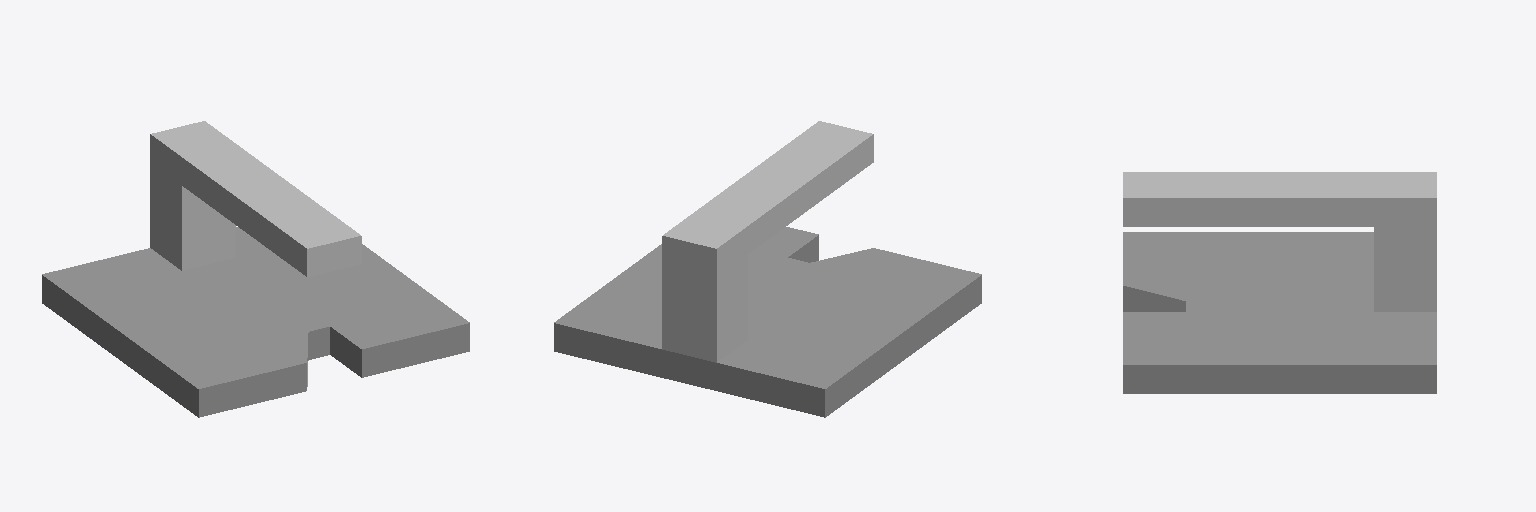
Rendered from hang4.obj.
The picture shows the model from 3 angles: view 1: azimuth 30°, elevation 25°; view 2: azimuth 150°, elevation 25°; view 3: azimuth 270°, elevation 25°; orthographic projection.
Parts seen in each view (by area): view 1: Cube, Cube.001_Cube.004, Cube.003; view 2: Cube, Cube.001_Cube.004, Cube.003; view 3: Cube, Cube.001_Cube.004, Cube.003.
Part boxes in pixels (left/top/right/bottom): Cube: left=42, top=227, right=469, bottom=417; Cube.001_Cube.004: left=150, top=121, right=361, bottom=276; Cube.003: left=150, top=163, right=235, bottom=270; Cube: left=554, top=227, right=981, bottom=417; Cube.001_Cube.004: left=662, top=121, right=873, bottom=276; Cube.003: left=662, top=255, right=747, bottom=362; Cube: left=1123, top=232, right=1436, bottom=393; Cube.001_Cube.004: left=1123, top=172, right=1436, bottom=226; Cube.003: left=1374, top=227, right=1436, bottom=311.
Size of the model in its own units: 10 by 5 by 10.